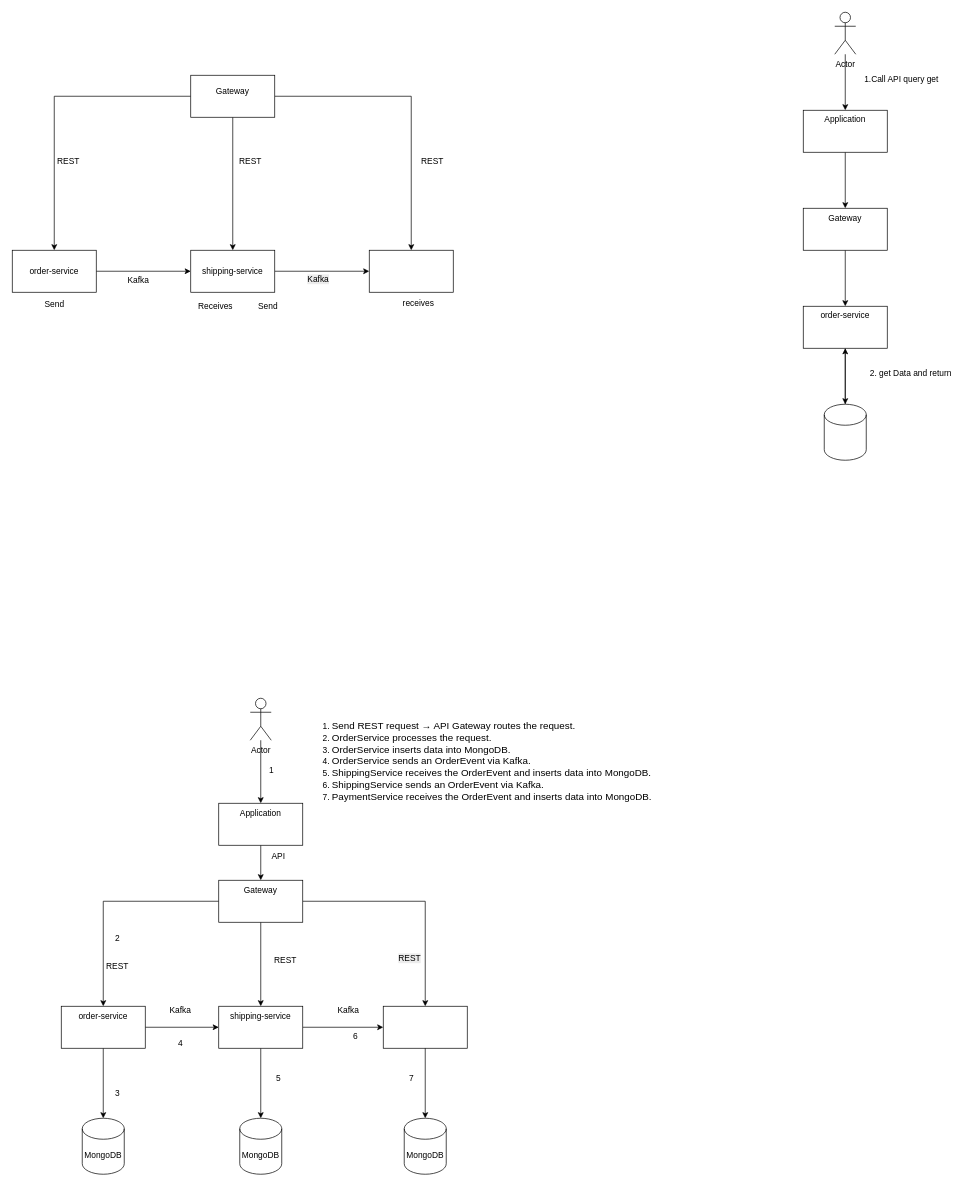
The diagram is 973 pixels wide and 1187 high, and some of its shapes have lost their labels. The centre of each missing label's shape, as x and y in pixels:
"payment" goes at [425,1027].
"payment-service" goes at [411,271].
